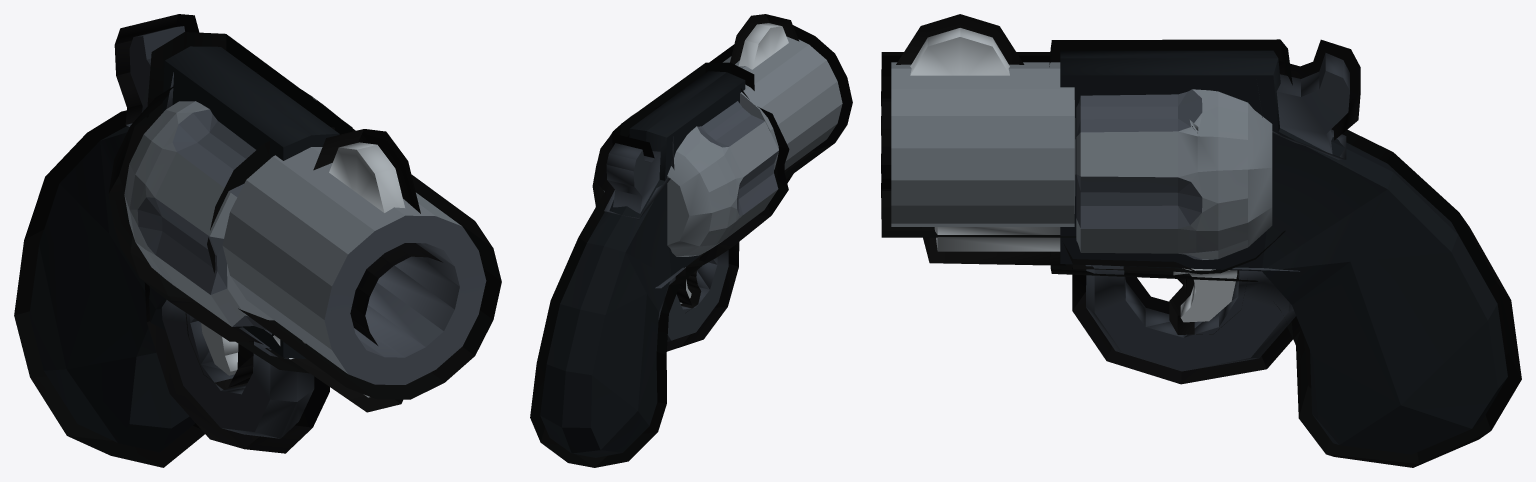
Rendered from Gun_Goblin.fbx.
3 renders of one model, left to right at view 1: azimuth 30°, elevation 25°; view 2: azimuth 150°, elevation 25°; view 3: azimuth 270°, elevation 25°, orthographic. The views are drawn at different scales.
Visible parts, largest first — view 1: Gun_Goblin; view 2: Gun_Goblin; view 3: Gun_Goblin.
Part boxes in pixels (bbox=[...]): Gun_Goblin: bbox=[14, 14, 501, 467]; Gun_Goblin: bbox=[530, 14, 852, 467]; Gun_Goblin: bbox=[881, 14, 1521, 467].
Bounding box in the file's own units: 0.1576 × 0.45 × 0.3421.
